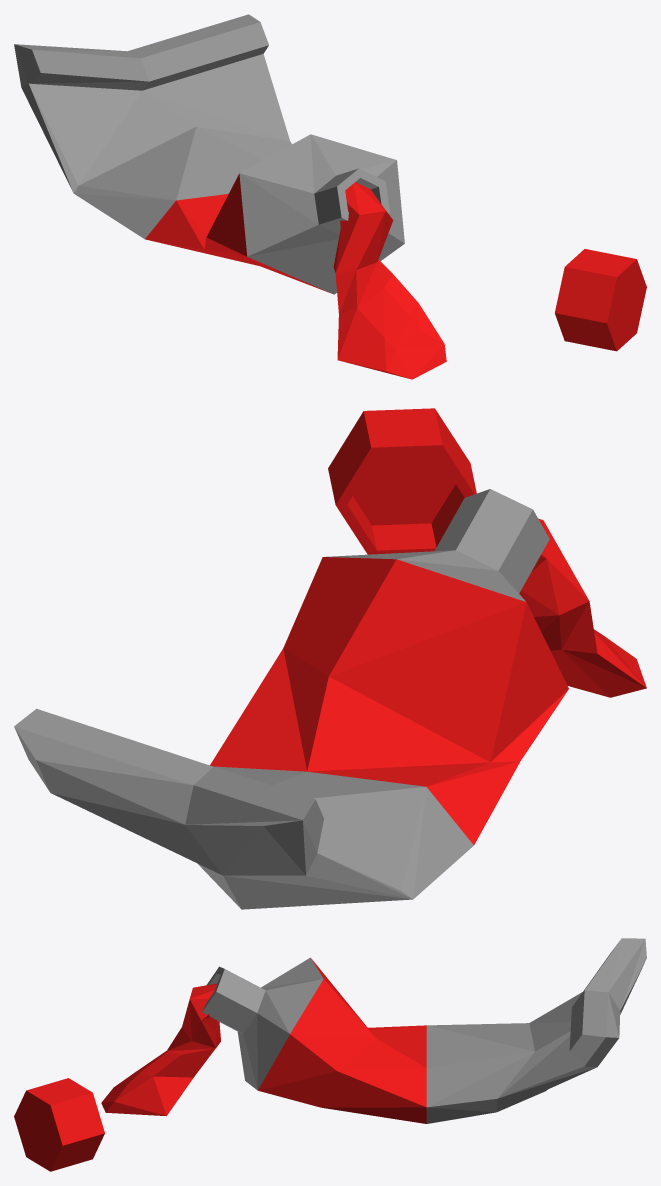
The model's file is pig_R.FBX.
The picture shows the model from 3 angles, top to bottom: view 1: azimuth 30°, elevation 25°; view 2: azimuth 150°, elevation 25°; view 3: azimuth 270°, elevation 25°; orthographic projection. The views are drawn at different scales.
Visible parts, largest first — view 1: Cylinder001; view 2: Cylinder001; view 3: Cylinder001.
Boxes of the visible parts, left/top/right/bottom form: Cylinder001: left=14, top=14, right=646, bottom=379; Cylinder001: left=14, top=408, right=646, bottom=909; Cylinder001: left=14, top=938, right=646, bottom=1171.
Size of the model in its own units: 28.21 by 13.45 by 54.74.
